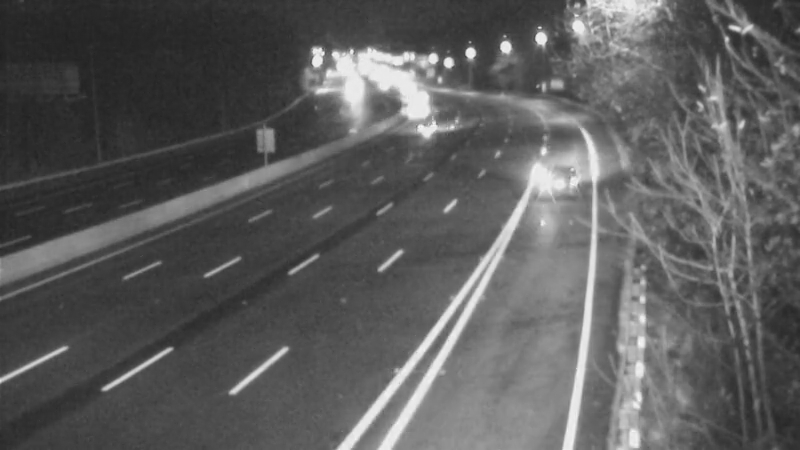vehicle: (515, 139, 595, 219), (393, 74, 443, 124), (388, 82, 438, 132), (401, 103, 451, 153)
